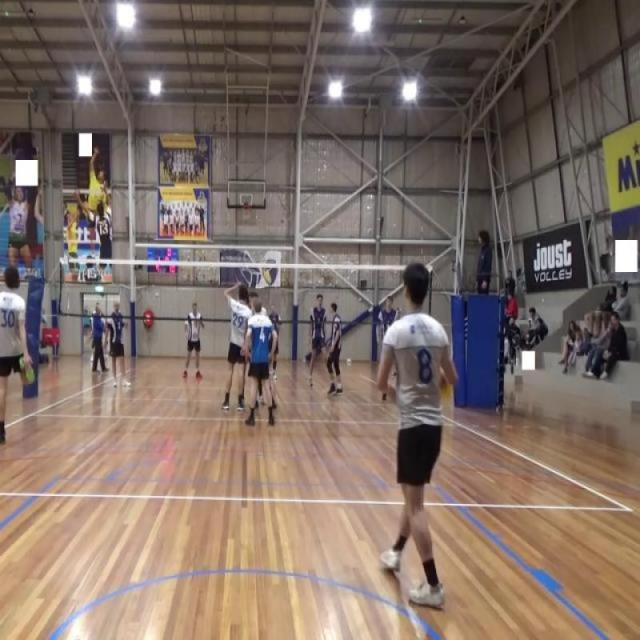volleyball: (437, 368, 455, 407)
